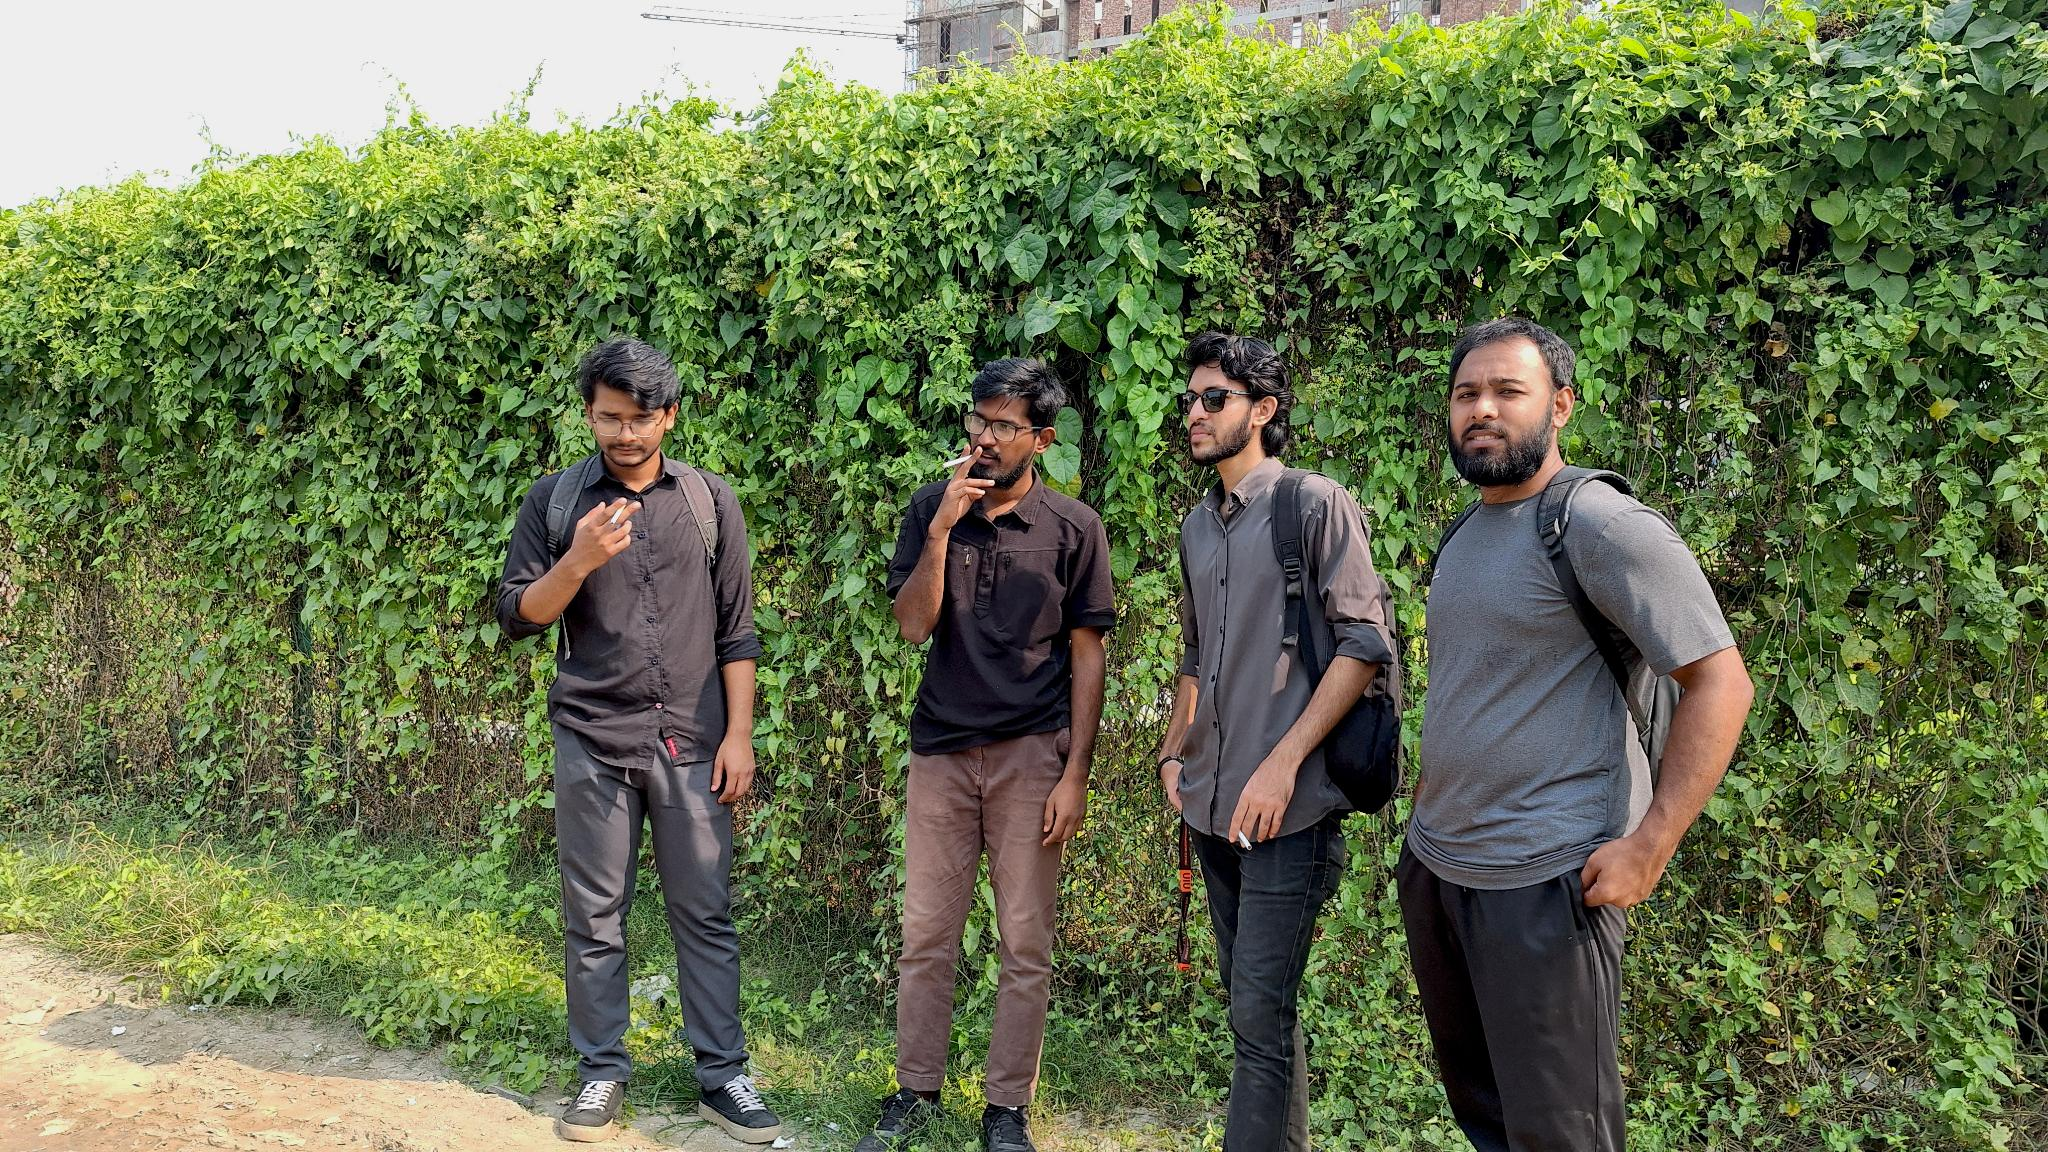cigarette: (941, 453, 973, 468), (608, 504, 626, 526), (1236, 828, 1253, 852)
nonSmoker: (1393, 316, 1755, 1152)
smoker: (492, 338, 782, 1145), (855, 359, 1118, 1152), (1156, 331, 1402, 1152)
